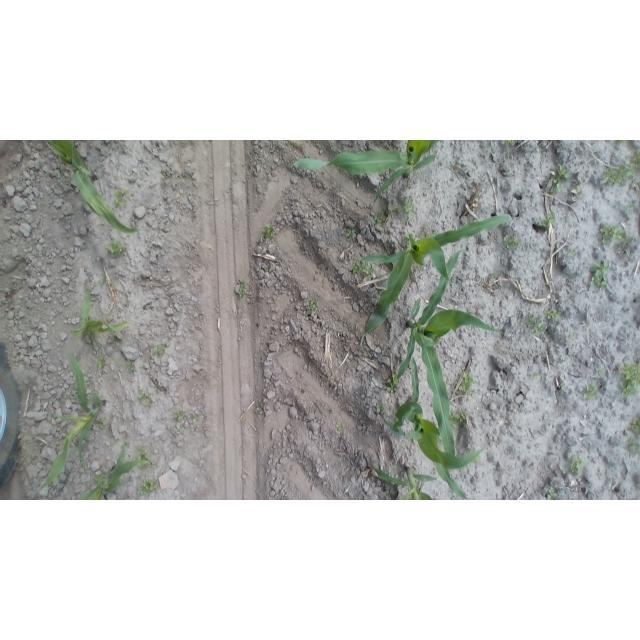Maize: (389, 248, 505, 455), (356, 212, 512, 340), (382, 352, 490, 500), (291, 142, 444, 205), (38, 350, 106, 491), (47, 140, 142, 236), (78, 444, 146, 501), (70, 286, 131, 345), (371, 464, 440, 500)
Weeds: (597, 223, 631, 246), (620, 361, 640, 400), (602, 163, 635, 185), (547, 166, 569, 196), (590, 259, 610, 291), (457, 370, 475, 396), (350, 260, 374, 279), (526, 313, 546, 335), (139, 480, 160, 497), (502, 234, 522, 251), (234, 278, 250, 299), (137, 447, 152, 469), (450, 409, 468, 427), (137, 390, 154, 409), (570, 456, 586, 476), (112, 188, 128, 208), (385, 372, 399, 394), (537, 212, 555, 229), (108, 241, 125, 258), (544, 306, 562, 322), (583, 383, 599, 400), (262, 222, 277, 240), (402, 199, 416, 218), (627, 436, 640, 455), (371, 211, 385, 225), (545, 486, 559, 499), (153, 344, 167, 357), (629, 418, 640, 434), (630, 152, 639, 168), (174, 410, 185, 422), (97, 355, 107, 368), (126, 359, 136, 372), (309, 299, 319, 312), (97, 419, 108, 430), (389, 202, 399, 214), (573, 182, 583, 194), (376, 402, 385, 415), (191, 413, 202, 423), (596, 366, 606, 377), (345, 228, 355, 239), (626, 202, 635, 214), (256, 404, 265, 416), (566, 332, 576, 342), (286, 142, 296, 151), (505, 141, 517, 148), (336, 422, 345, 431), (106, 140, 116, 148), (570, 246, 578, 256), (533, 370, 543, 378), (489, 271, 498, 279), (558, 381, 564, 390), (265, 264, 271, 272), (616, 140, 625, 144)
